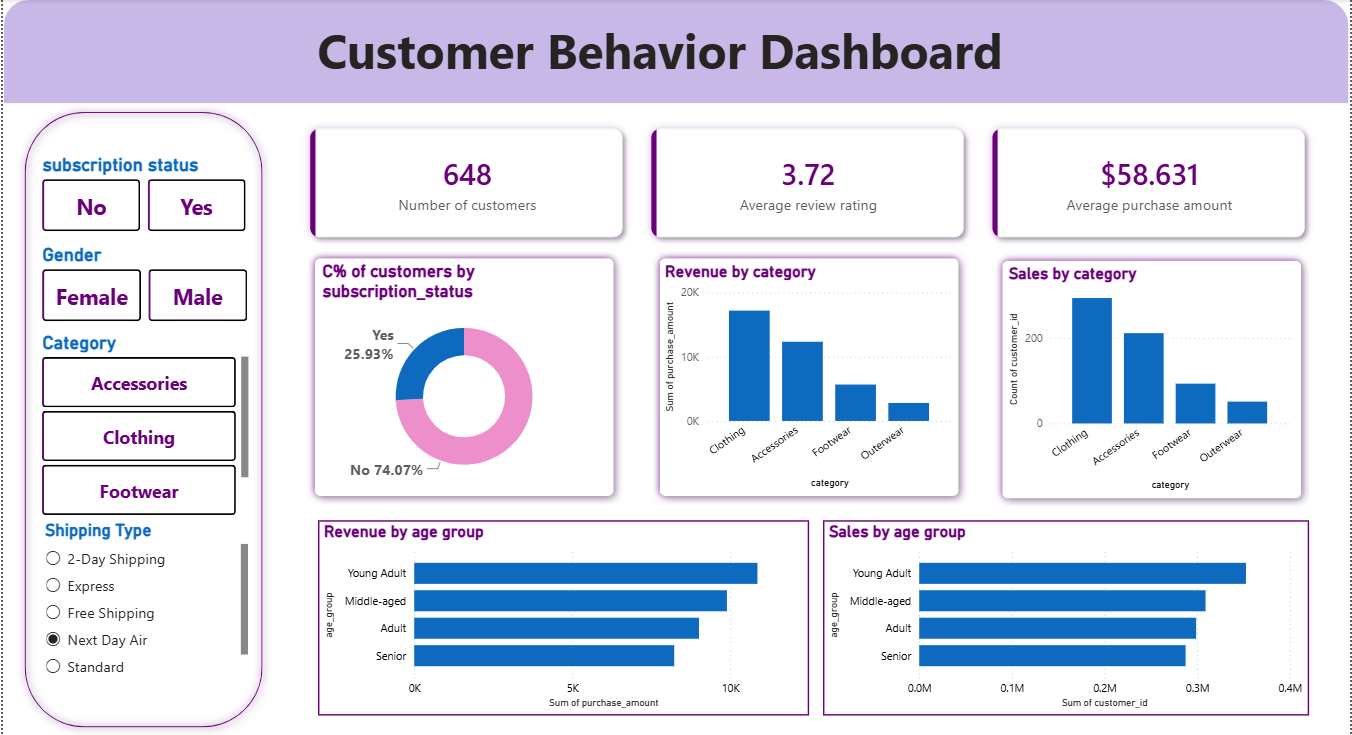

The page's visual inventory and layout, read from the dashboard file:
{"tool":"powerbi","page":{"name":"Page 1","canvas":[1500,820],"ordinal":0},"visuals":[{"type":"cardVisual","fields":{"Data":["customer_trends customer.Number of customers","customer_trends customer.Average review rating","customer_trends customer.Average purchase amount"]},"box":[313.4,115.6,1168.5,179.7],"z":0},{"type":"shape","box":[0,0,1499.9,117],"z":1},{"type":"textbox","box":[91.9,15.3,1279.9,82.2],"z":2},{"type":"shape","box":[338.4,279.9,351,282.7],"z":3},{"type":"donutChart","title":"C% of customers by subscription_status","fields":{"Category":["customer_trends customer.subscription_status"],"Y":["CountNonNull(customer_trends customer.customer_id)"]},"box":[351,292.5,325.9,257.6],"z":4},{"type":"shape","box":[722.8,279.9,351,282.7],"z":5},{"type":"shape","box":[1104.4,282.7,351,282.7],"z":6},{"type":"clusteredColumnChart","title":"Revenue by category","fields":{"Y":["Sum(customer_trends customer.purchase_amount)"],"Category":["customer_trends customer.category"]},"box":[732.5,292.5,330.1,257.6],"z":7},{"type":"clusteredColumnChart","title":"Sales by category","fields":{"Y":["CountNonNull(customer_trends customer.customer_id)"],"Category":["customer_trends customer.category"]},"box":[1115.5,295.2,323.1,257.6],"z":8},{"type":"shape","box":[15.3,117,282.7,703.3],"z":9},{"type":"advancedSlicerVisual","title":"subscription status","fields":{"Values":["customer_trends customer.subscription_status"]},"box":[39,172.7,236.8,91.9],"z":10},{"type":"advancedSlicerVisual","title":"Gender","fields":{"Values":["customer_trends customer.gender"]},"box":[39,273,239.5,91.9],"z":11},{"type":"advancedSlicerVisual","title":"Category","fields":{"Values":["customer_trends customer.category"]},"box":[39,370.5,239.5,210.3],"z":12},{"type":"listSlicer","title":"Shipping Type","fields":{"Values":["customer_trends customer.shipping_type"]},"box":[41.8,580.7,236.8,181],"z":13},{"type":"clusteredBarChart","title":"Revenue by age group","fields":{"Y":["Sum(customer_trends customer.purchase_amount)"],"Category":["customer_trends customer.age_group"]},"box":[351,580.7,547.3,217.3],"z":14},{"type":"clusteredBarChart","title":"Sales by age group","fields":{"Y":["Sum(customer_trends customer.customer_id)"],"Category":["customer_trends customer.age_group"]},"box":[913.6,580.7,541.7,217.3],"z":16}]}

Visuals, with their boxes in screenshot pixels (x1, y1, x2, y2), scaled from the page's 1500x820 canvas onto the 1352x735 screenshot:
cardVisual - customer_trends customer.Number of customers x customer_trends customer.Average review rating: <region>282, 104, 1336, 265</region>
shape: <region>0, 0, 1351, 105</region>
textbox: <region>83, 14, 1236, 87</region>
shape: <region>305, 251, 621, 504</region>
"C% of customers by subscription_status" donutChart: <region>316, 262, 610, 493</region>
shape: <region>651, 251, 968, 504</region>
shape: <region>995, 253, 1312, 507</region>
"Revenue by category" clusteredColumnChart: <region>660, 262, 958, 493</region>
"Sales by category" clusteredColumnChart: <region>1005, 265, 1297, 495</region>
shape: <region>14, 105, 269, 734</region>
"subscription status" advancedSlicerVisual: <region>35, 155, 249, 237</region>
"Gender" advancedSlicerVisual: <region>35, 245, 251, 327</region>
"Category" advancedSlicerVisual: <region>35, 332, 251, 521</region>
"Shipping Type" listSlicer: <region>38, 521, 251, 683</region>
"Revenue by age group" clusteredBarChart: <region>316, 521, 810, 715</region>
"Sales by age group" clusteredBarChart: <region>823, 521, 1312, 715</region>
